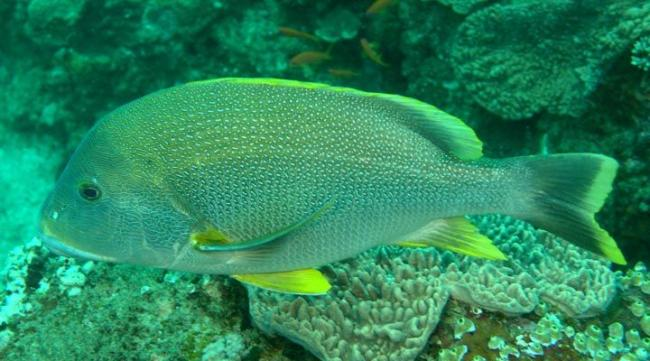fish: (40, 77, 627, 294)
